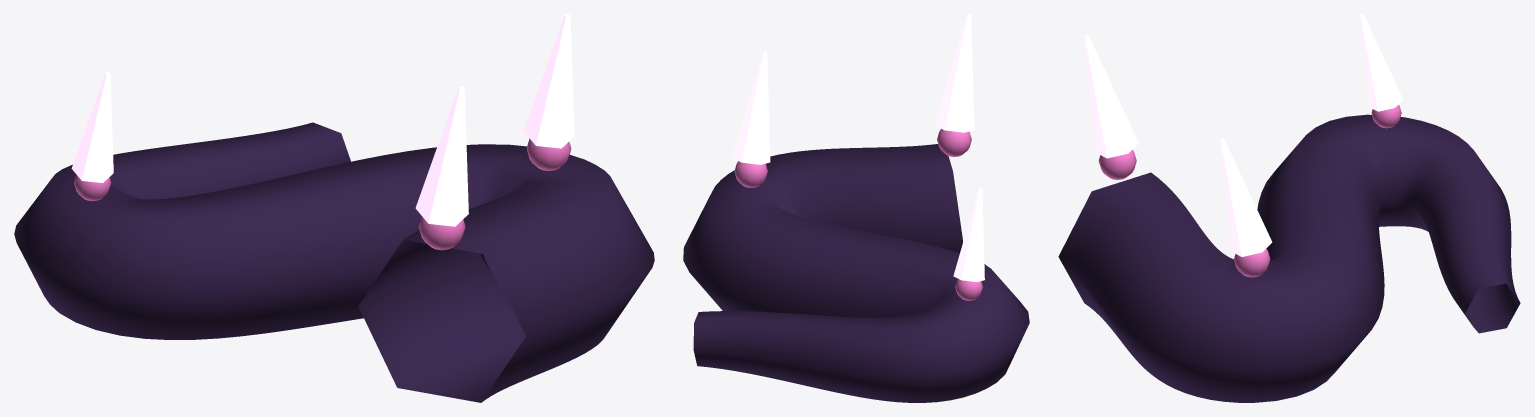
Rendered from SM_Keeper_Apep_Body_F30.fbx.
The picture shows the model from 3 angles, left to right: view 1: azimuth 30°, elevation 25°; view 2: azimuth 150°, elevation 25°; view 3: azimuth 270°, elevation 25°; orthographic projection. The views are drawn at different scales.
Parts seen in each view (by area): view 1: SM_Keeper_Apep_Body_F30; view 2: SM_Keeper_Apep_Body_F30; view 3: SM_Keeper_Apep_Body_F30.
Boxes of the visible parts, x1,y1,x2,y2 form: SM_Keeper_Apep_Body_F30: (14, 14, 654, 402); SM_Keeper_Apep_Body_F30: (683, 14, 1029, 402); SM_Keeper_Apep_Body_F30: (1058, 14, 1520, 402).
Size of the model in its own units: 6.76 by 4.37 by 6.53.
